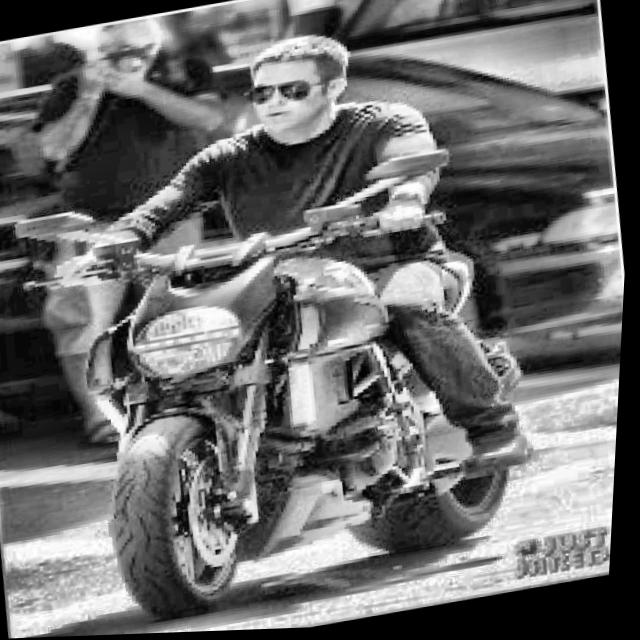motorcycle: (0, 113, 606, 640)
